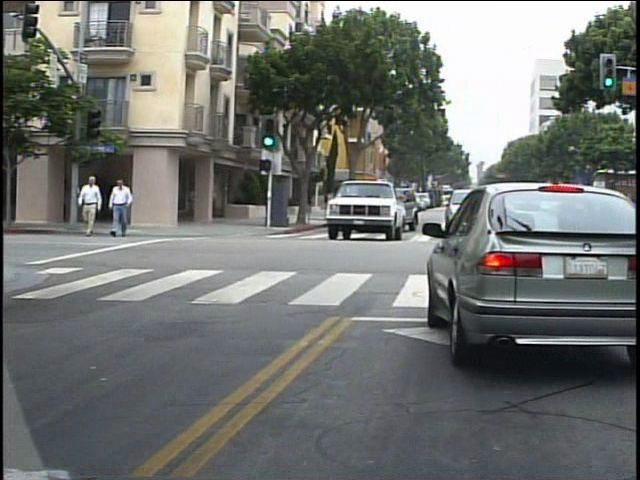person: (80, 170, 111, 241), (114, 175, 143, 242)
